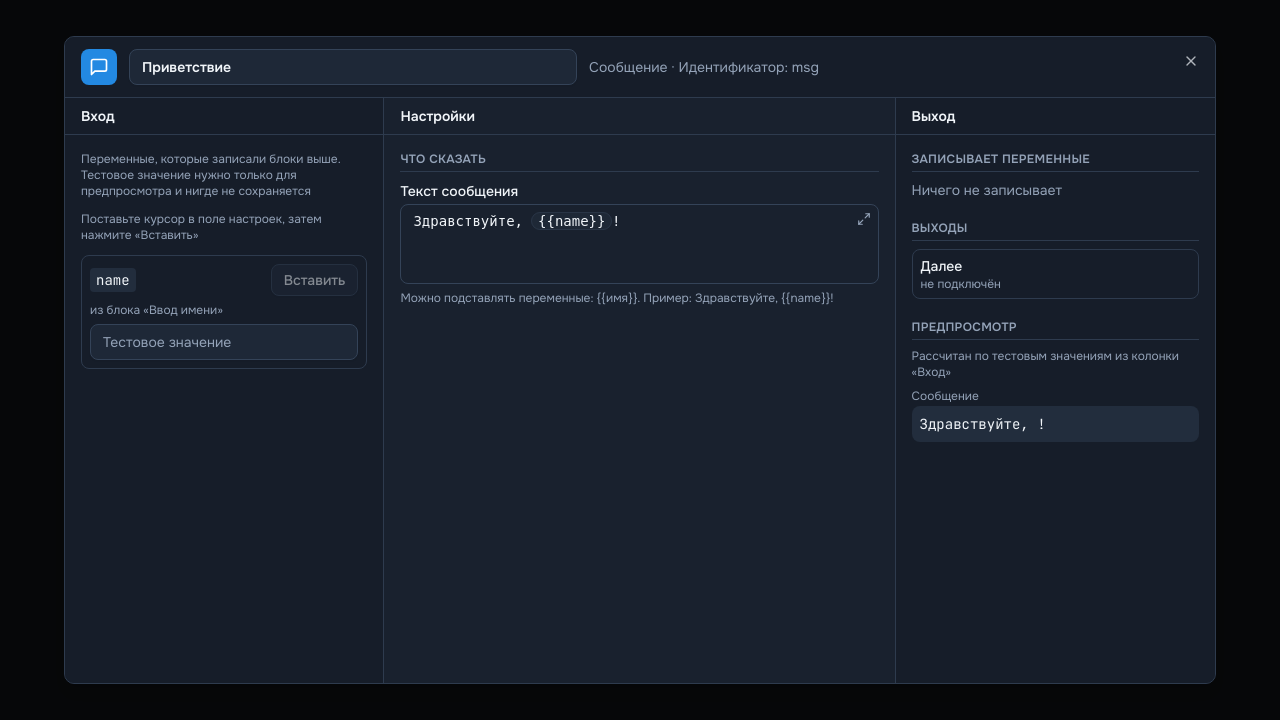
BlockDialog › «Выход» сообщения показывает текст после подстановки тестовых значений
The image size is (1280, 720).
Type "Анна" into the field named "Тестовое значение: name" at (224, 342), box [90,324,358,360]
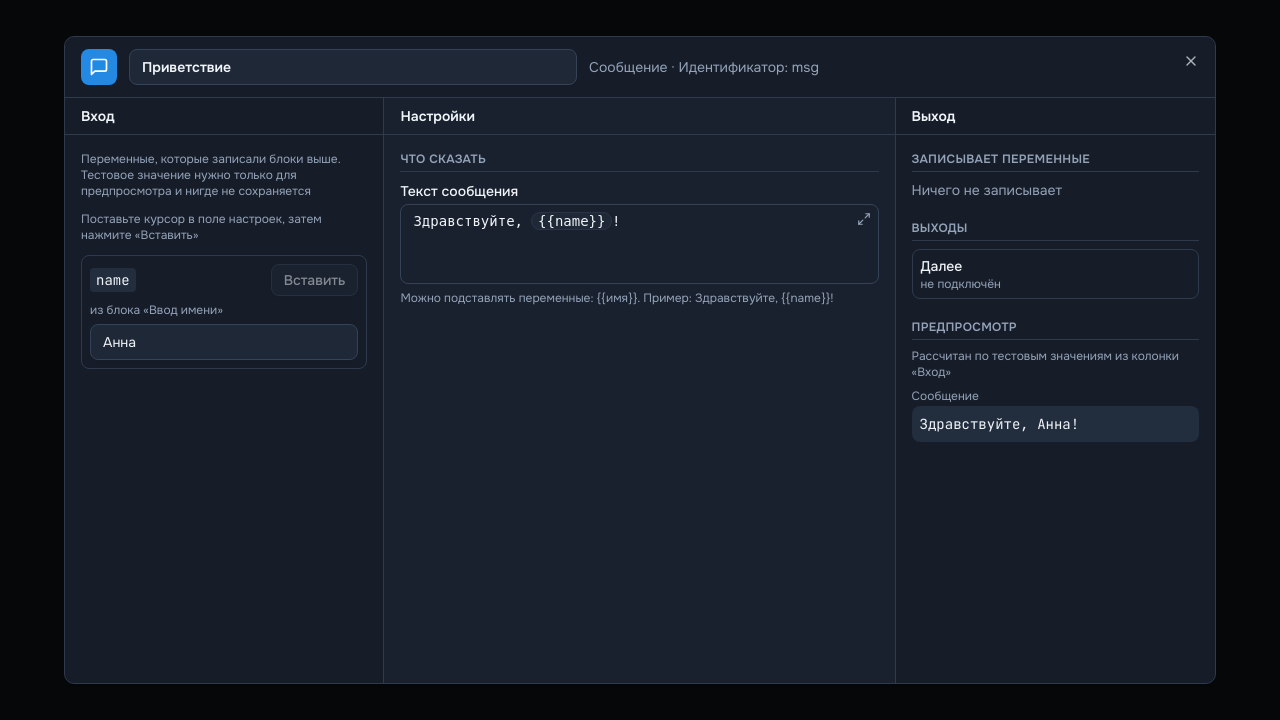
Check: the text "Здравствуйте, Анна!" is shown, box [912,406,1199,442]
